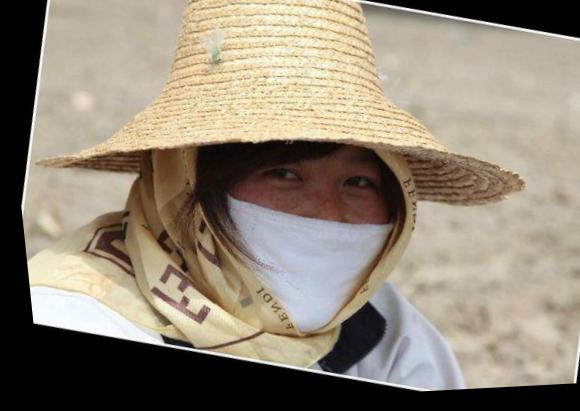WRONG: (174, 104, 413, 358)
